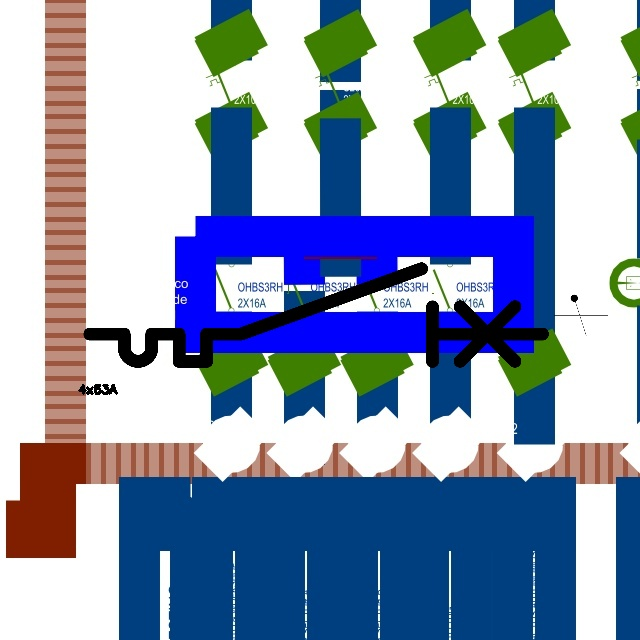interruptor_termomagnetico: (78, 257, 554, 373)
